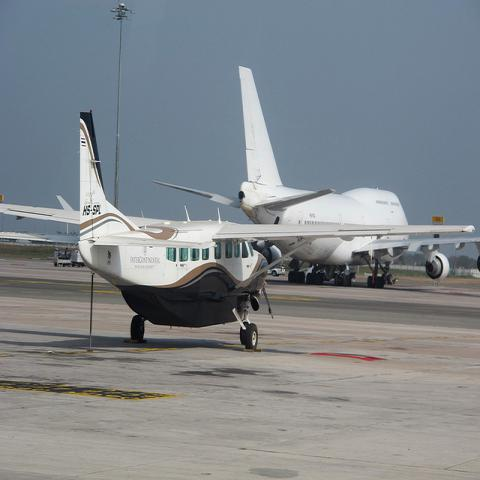truck: (54, 250, 71, 268), (70, 250, 86, 268)
